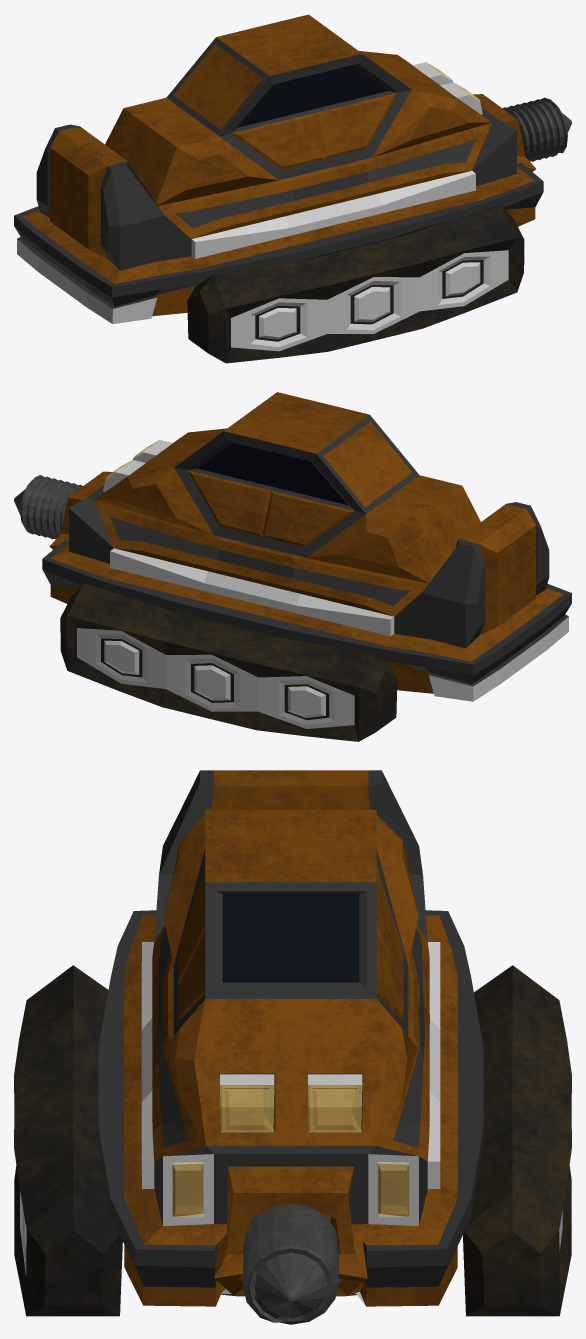
File: EnemyBoss.fbx
3 renders of one model, top to bottom at view 1: azimuth 30°, elevation 25°; view 2: azimuth 150°, elevation 25°; view 3: azimuth 270°, elevation 25°, orthographic. The views are drawn at different scales.
Parts seen in each view (by area): view 1: Drill; view 2: Drill; view 3: Drill.
Part boxes in pixels (left/top/right/bottom): Drill: left=14, top=14, right=571, bottom=363; Drill: left=14, top=392, right=571, bottom=741; Drill: left=14, top=770, right=571, bottom=1324.
Bounding box in the file's own units: 1105 × 478 × 651.
